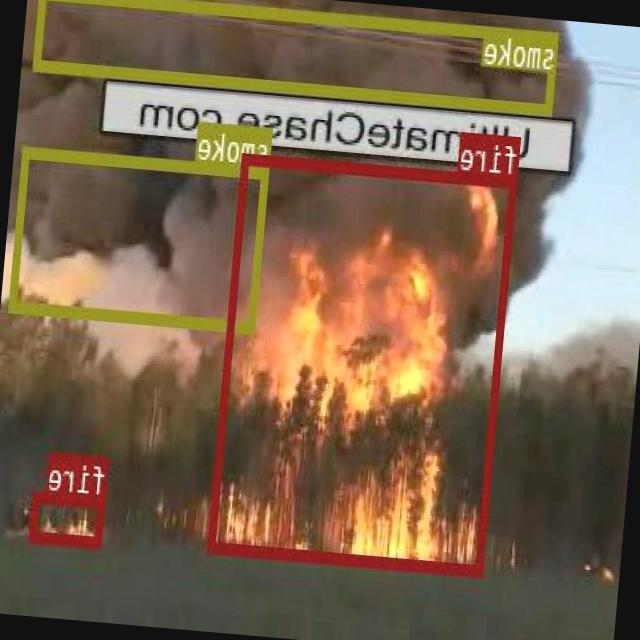fire: (210, 152, 518, 575), (30, 489, 107, 547)
smoke: (34, 0, 559, 114), (11, 144, 270, 330)
